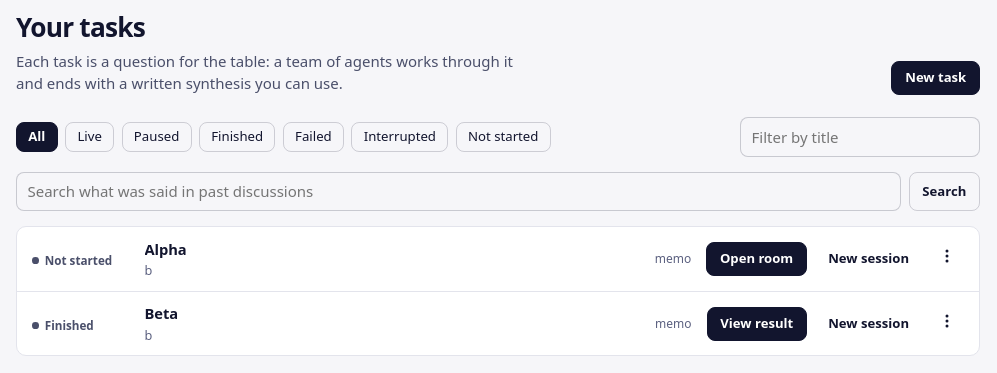
it: TaskBoard wording and row actions › labels a created-but-unstarted task like its filter, and the filter finds it
Expected: the list is shown, [16,226,980,356]
Expected: the list item "Alpha" shows "Not started", [45,252,112,268]
Step 1. Click the button "Not started" → x=503, y=137, box [456,122,551,152]
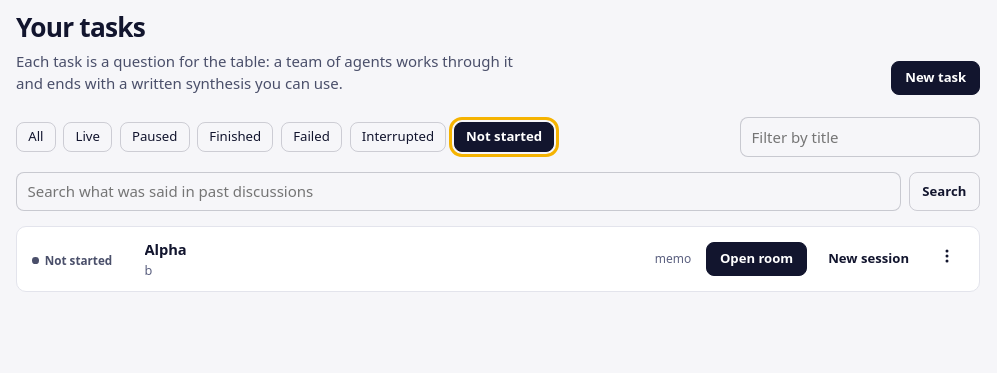
Expected: the heading "Alpha" is shown, [144,239,187,259]
Now the heading "Beta" is gone
